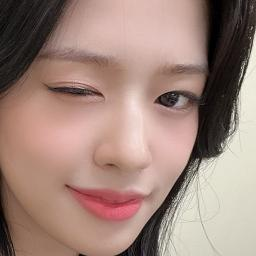face: (8, 0, 202, 256)
